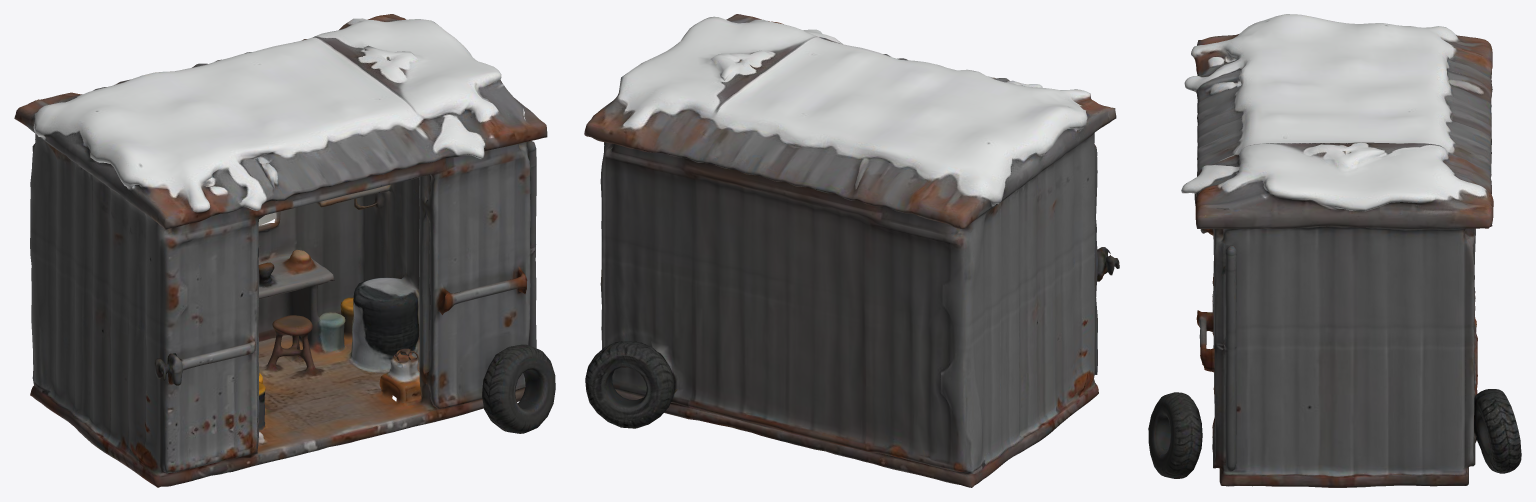
Rendered from g67_garage_open.glb.
3 renders of one model, left to right at view 1: azimuth 30°, elevation 25°; view 2: azimuth 150°, elevation 25°; view 3: azimuth 270°, elevation 25°, orthographic. The views are drawn at different scales.
Visible parts, largest first — view 1: tripo_node_1b0e5884; view 2: tripo_node_1b0e5884; view 3: tripo_node_1b0e5884.
Boxes of the visible parts, box(x1,y1,x2,y2) form: tripo_node_1b0e5884: box(14, 14, 555, 487); tripo_node_1b0e5884: box(584, 14, 1119, 487); tripo_node_1b0e5884: box(1148, 14, 1521, 487).
Bounding box in the file's own units: 97.28 × 74.57 × 82.75.
Materials: 1 (1 with a texture image).
